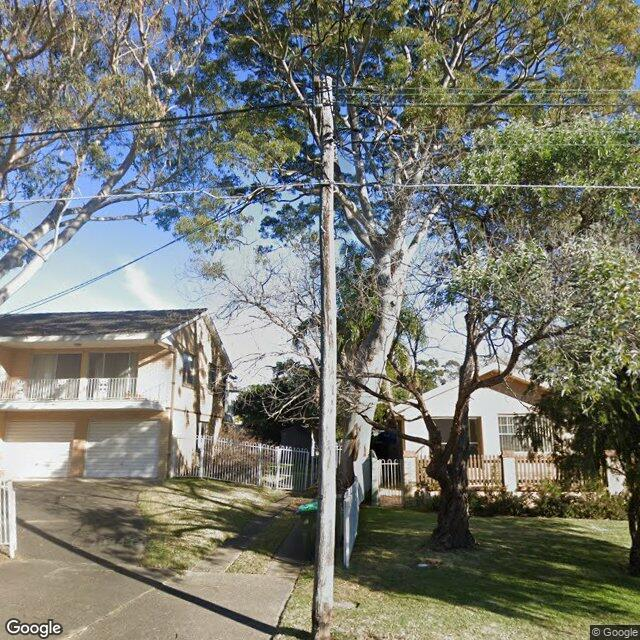timber-pole: (312, 73, 338, 640)
